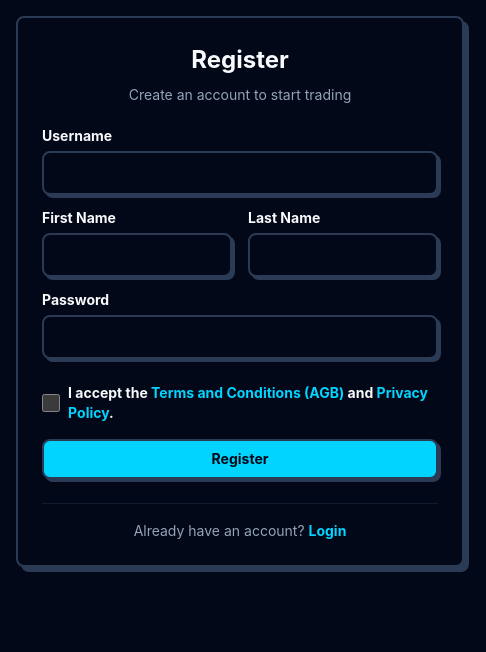
Test: RegisterPage › renders backend error using ErrorMessage when registration fails
Type "existinguser" into the field with test id "username-input".
click(240, 173); type("existinguser")  # box [42, 151, 438, 195]
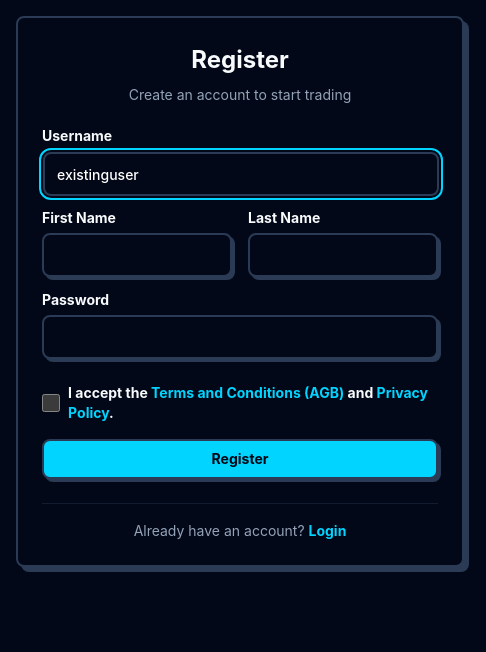
Type "John" into the field with test id "first-name-input".
click(137, 255); type("John")  # box [42, 233, 232, 277]
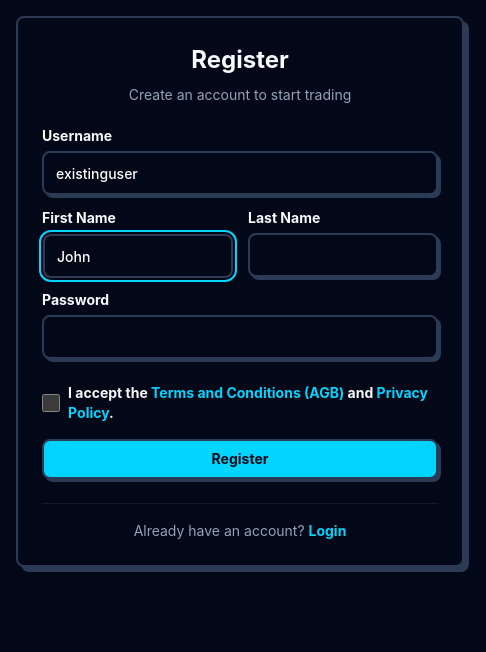
Type "Doe" into the field with test id "last-name-input".
click(343, 255); type("Doe")  # box [248, 233, 438, 277]
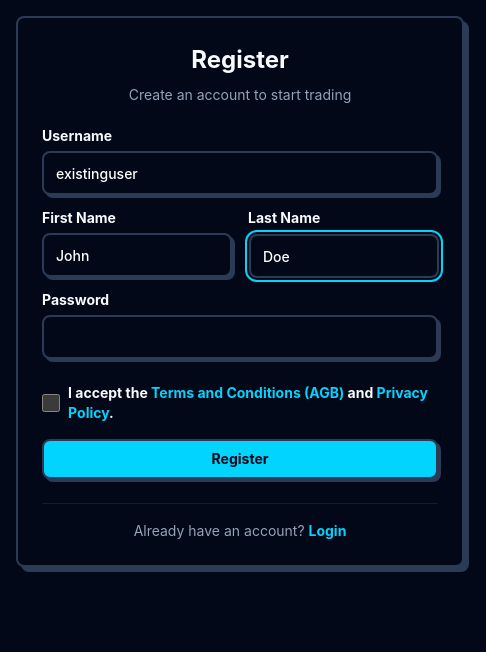
Type "password123" into the password field with test id "password-input".
click(240, 337); type("password123")  # box [42, 315, 438, 359]
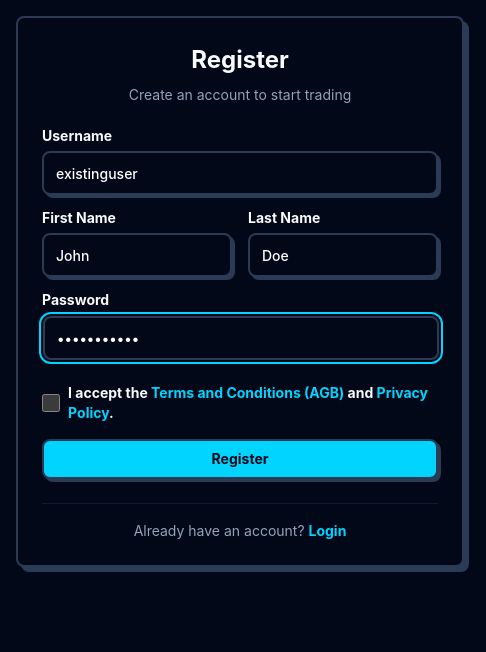
Click the checkbox with test id "agb-checkbox".
click(51, 403)  # box [42, 393, 60, 413]
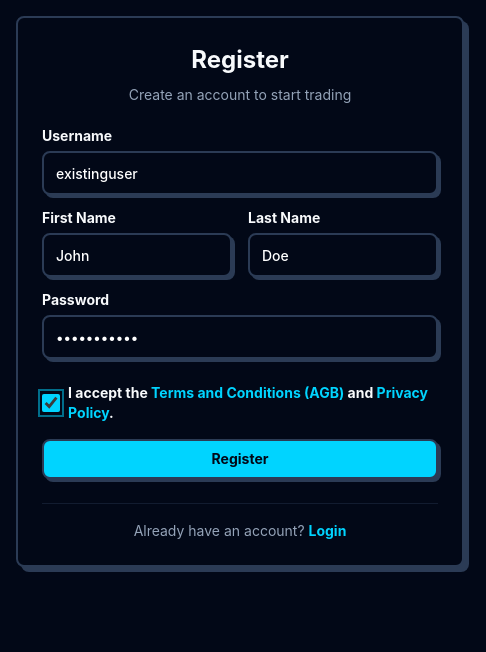
Click the button with test id "register-submit".
click(240, 459)  # box [42, 439, 438, 479]
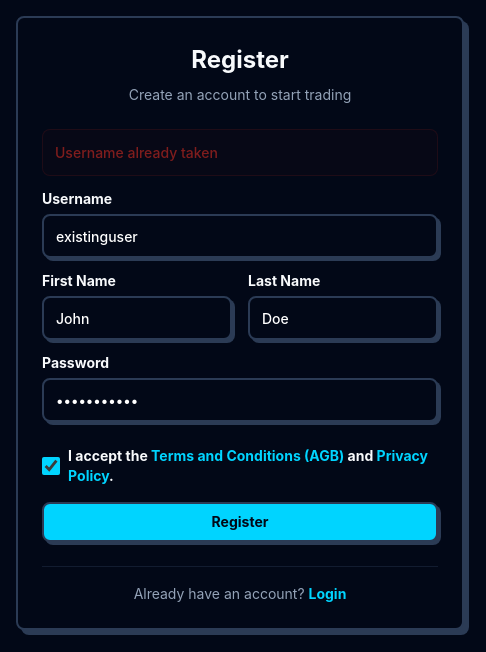
Expected: the message "Username already taken" is shown, [42, 129, 438, 176]
Expected: the message with test id "error-message" reads "Username already taken", [55, 144, 218, 161]
